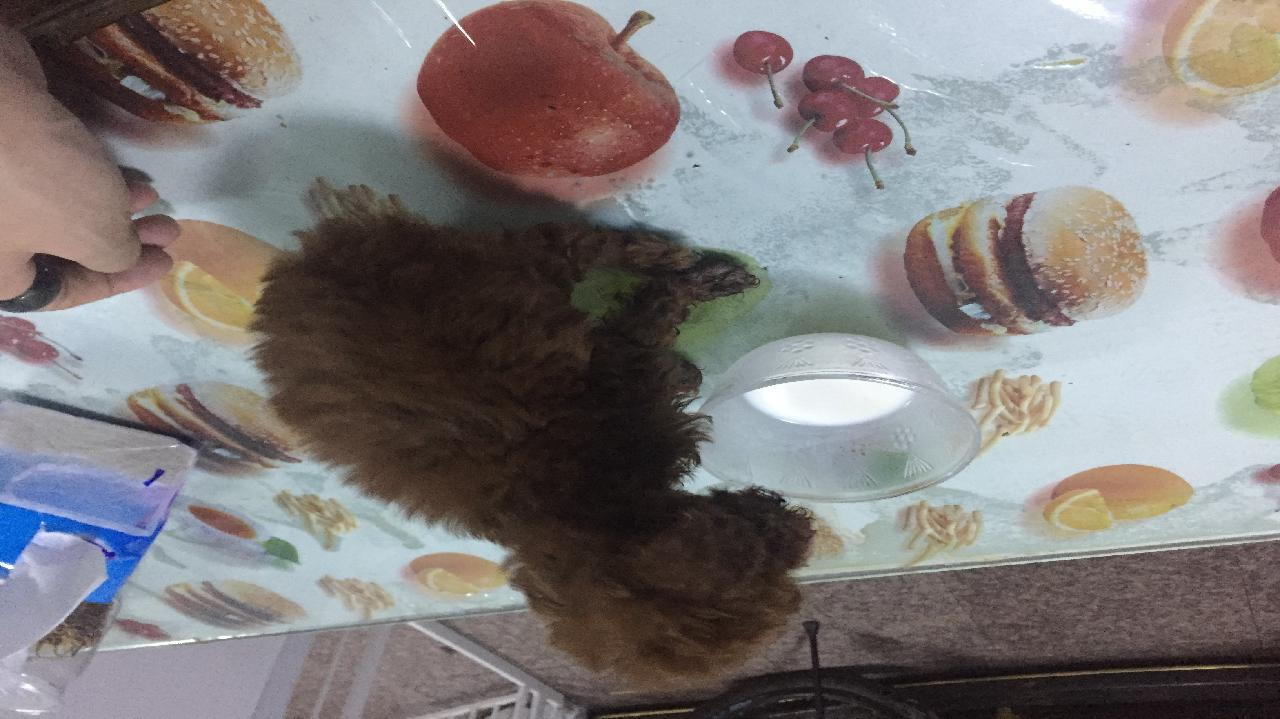coin: (249, 210, 829, 665)
